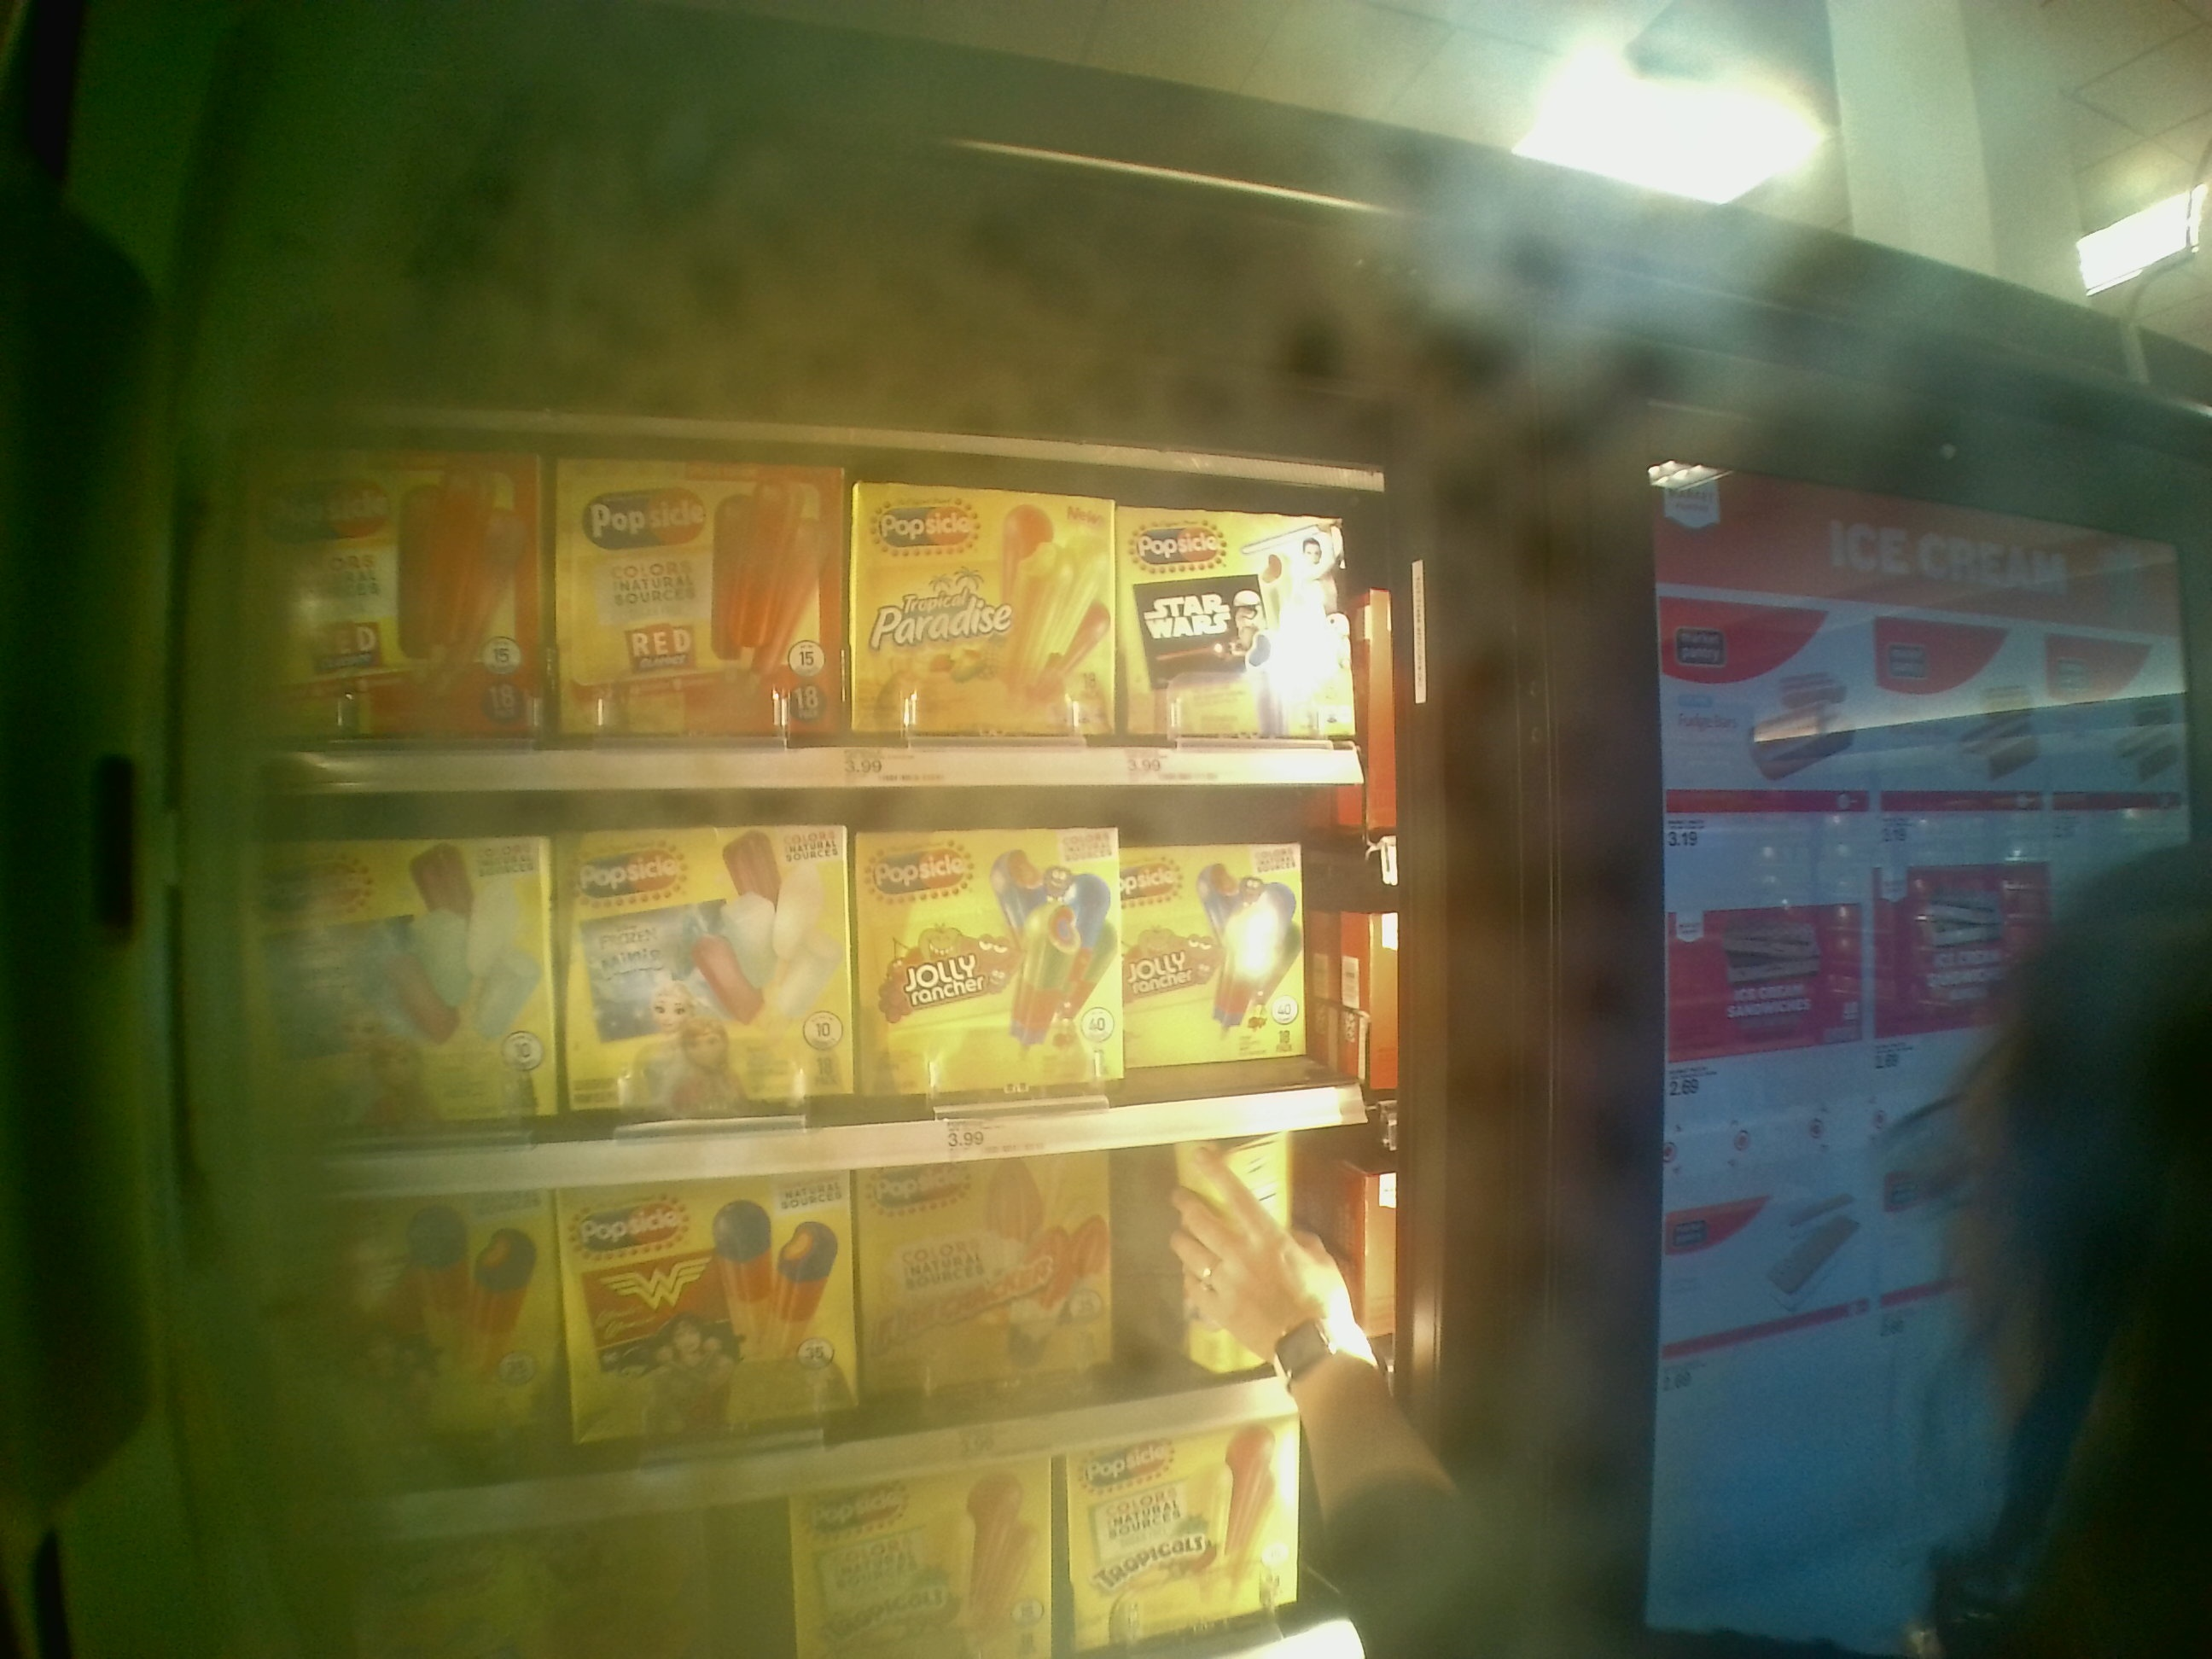shelf: (212, 779, 1348, 1154), (204, 429, 1350, 781)
